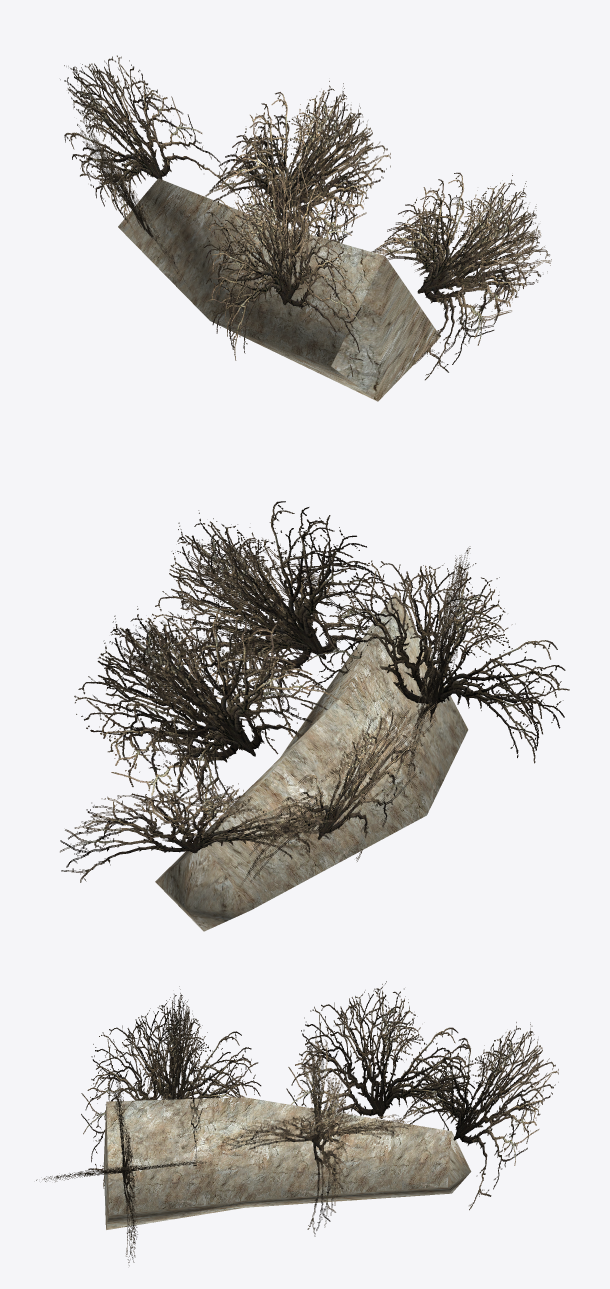
The model's file is poi_all_lair_bramble_light_l4.fbx.
3 views of the same model, one above another, from view 1: azimuth 30°, elevation 25°; view 2: azimuth 150°, elevation 25°; view 3: azimuth 270°, elevation 25° (orthographic). The views are drawn at different scales.
Visible parts, largest first — view 1: mesh_node; view 2: mesh_node; view 3: mesh_node.
Boxes of the visible parts, bbox=[...] form: mesh_node: bbox=[60, 55, 551, 401]; mesh_node: bbox=[60, 501, 569, 931]; mesh_node: bbox=[36, 981, 558, 1265].
Bounding box in the file's own units: 2.52 × 1.74 × 3.5.
